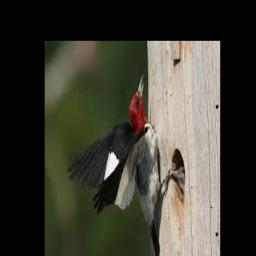Woodpecker: (69, 75, 184, 256)
